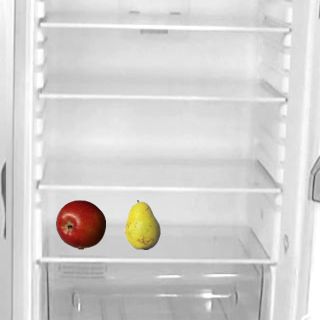Apple Braeburn: (55, 199, 105, 249)
Pear Monster: (117, 199, 167, 249)
